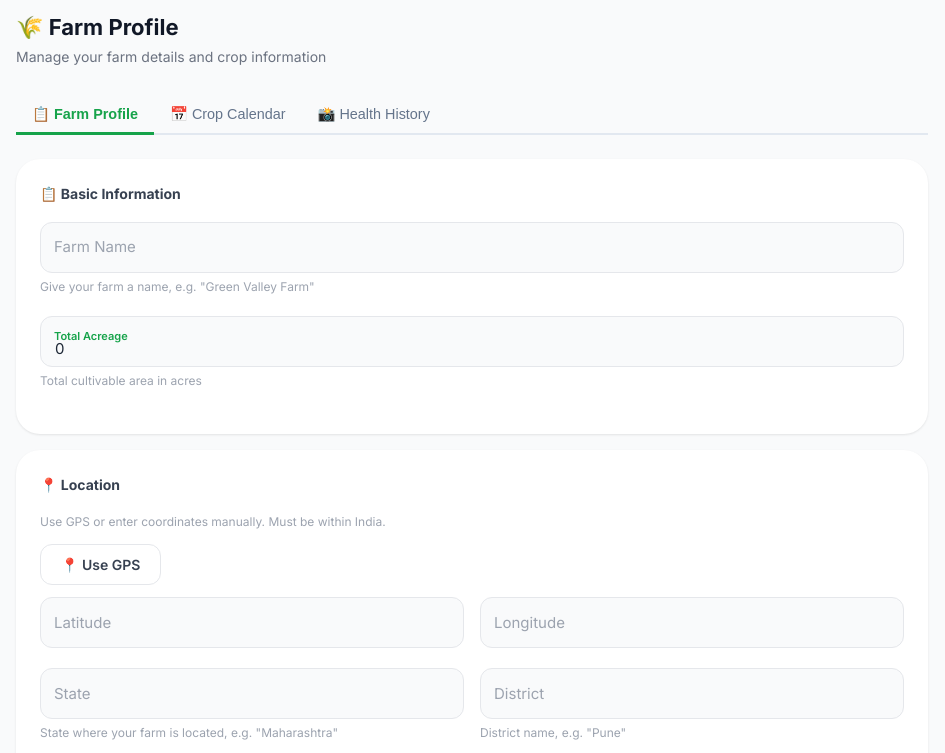
Test: captures GPS coordinates
Click the button with test id "gps-button".
click(101, 564)  # box [40,544,161,585]
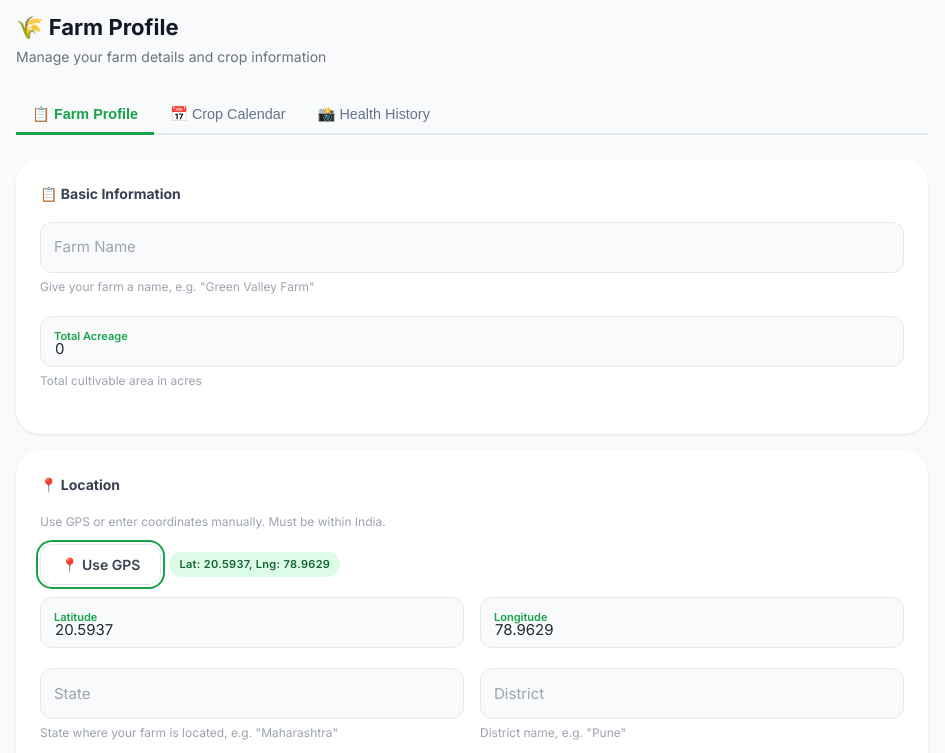
Expected: the text with test id "gps-coords" shows "20.5937", [204,556,249,570]
